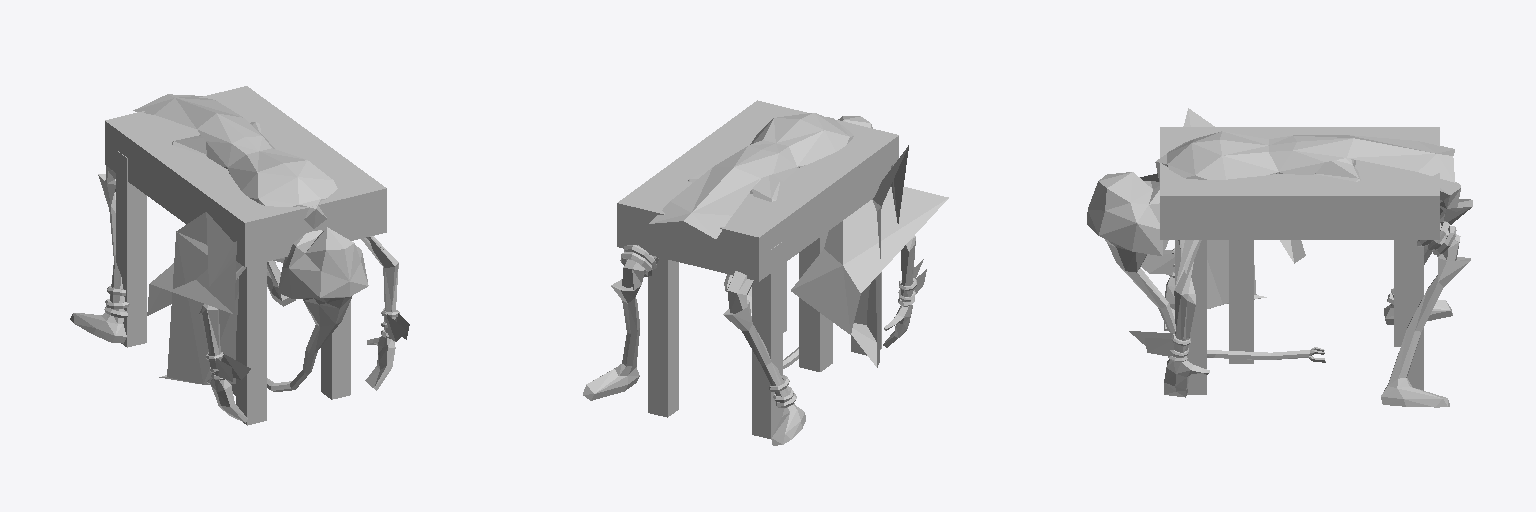
Rendered from Stalkertable.obj.
3 views of the same model, side by side, from view 1: azimuth 30°, elevation 25°; view 2: azimuth 150°, elevation 25°; view 3: azimuth 270°, elevation 25° (orthographic).
Parts seen in each view (by area): view 1: Legs_Low, UCX_Cube.002; view 2: UCX_Cube.002, Legs_Low; view 3: Legs_Low, UCX_Cube.002.
Part boxes in pixels (x1,y1,x2,y2): Legs_Low: (70, 94, 409, 422); UCX_Cube.002: (105, 86, 386, 425); UCX_Cube.002: (617, 100, 898, 439); Legs_Low: (583, 113, 948, 445); Legs_Low: (1087, 108, 1472, 407); UCX_Cube.002: (1160, 127, 1439, 394).
Bounding box in the file's own units: 65.05 × 70.16 × 105.